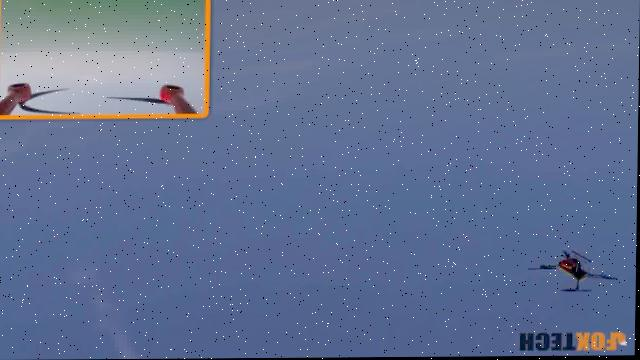drone: (520, 240, 634, 303)
